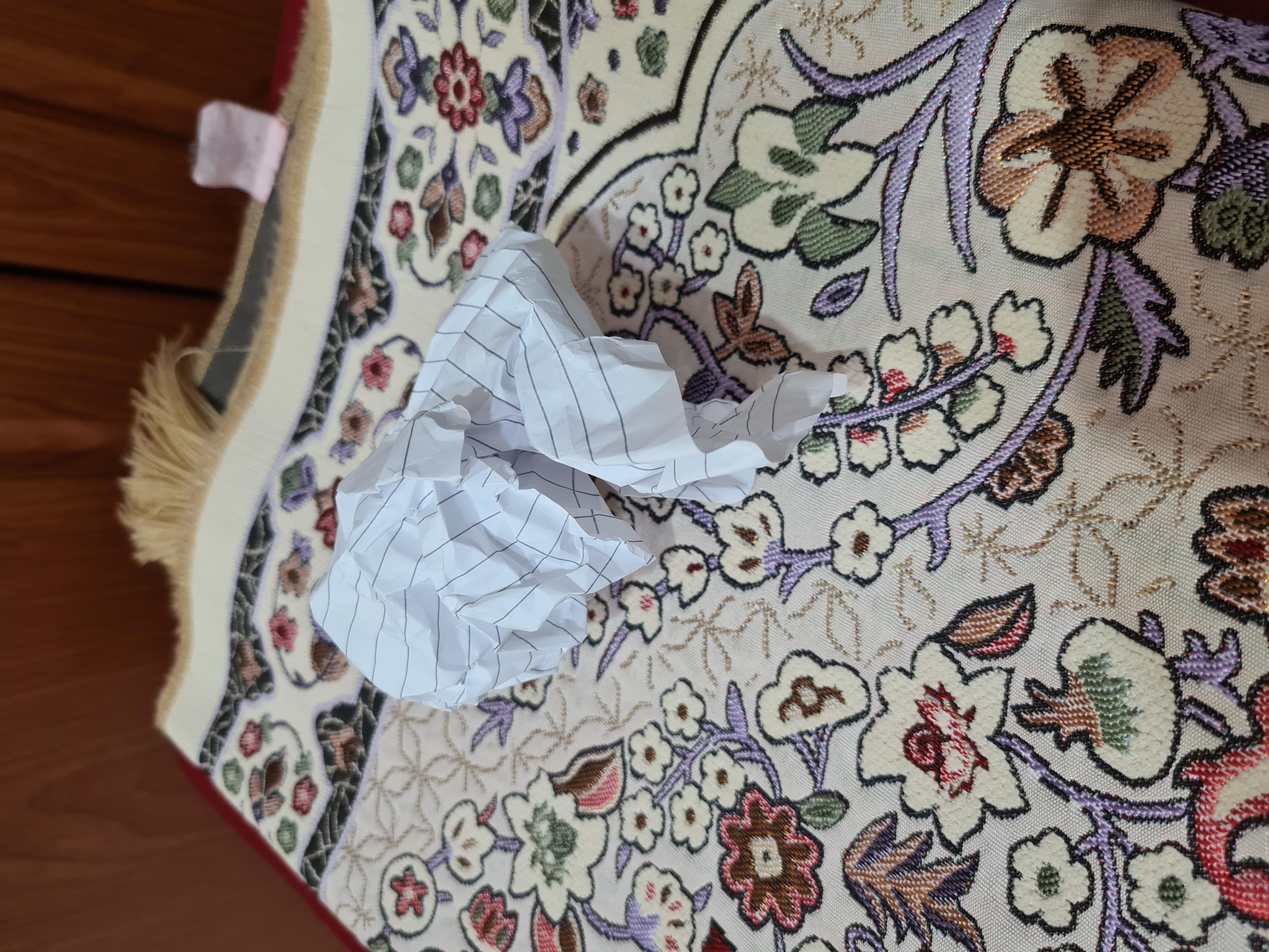paper: (295, 227, 953, 553)
